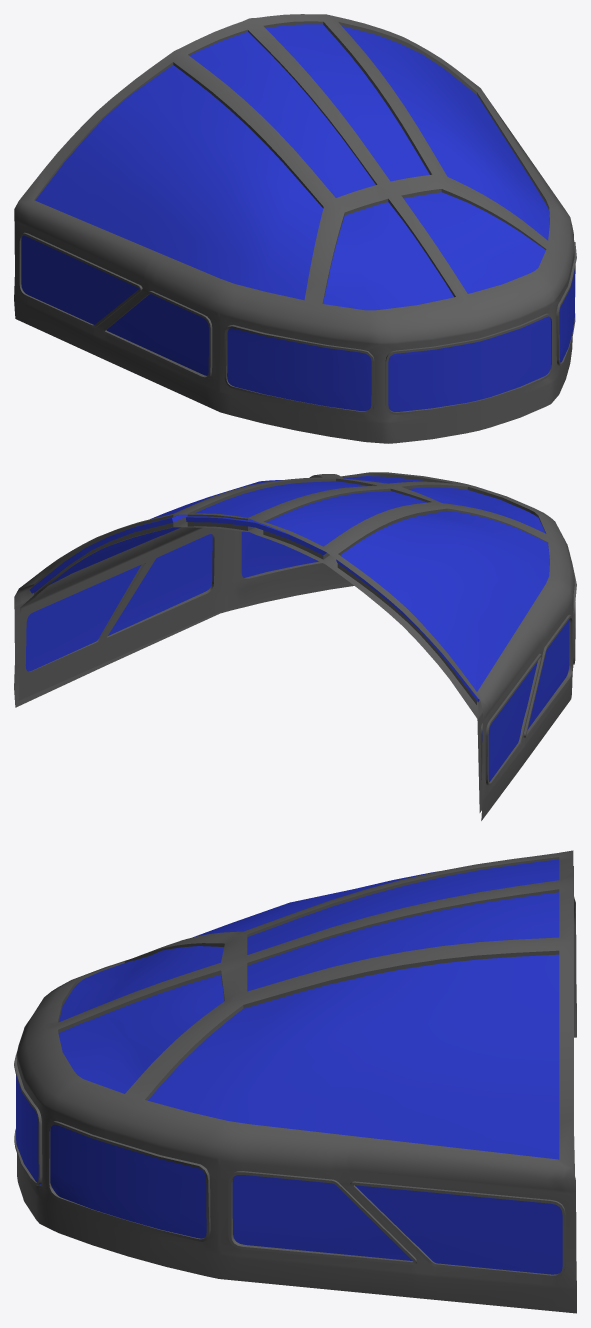
Rendered from CockpitNew.fbx.
3 views of the same model, one above another, from view 1: azimuth 30°, elevation 25°; view 2: azimuth 150°, elevation 25°; view 3: azimuth 270°, elevation 25° (orthographic). The views are drawn at different scales.
Parts seen in each view (by area): view 1: Cockpit_Top_WindowSet, Final Cockpit_Test, Cockpit_SideWindowSet; view 2: Final Cockpit_Test, Cockpit_Top_WindowSet, Cockpit_SideWindowSet; view 3: Cockpit_Top_WindowSet, Final Cockpit_Test, Cockpit_SideWindowSet.
Boxes of the visible parts, <box> form: Cockpit_Top_WindowSet: <box>35,24,549,310</box>; Final Cockpit_Test: <box>14,14,576,443</box>; Cockpit_SideWindowSet: <box>21,235,574,411</box>; Final Cockpit_Test: <box>14,472,576,820</box>; Cockpit_Top_WindowSet: <box>29,476,549,701</box>; Cockpit_SideWindowSet: <box>25,531,569,782</box>; Cockpit_Top_WindowSet: <box>58,859,559,1159</box>; Final Cockpit_Test: <box>14,850,576,1313</box>; Cockpit_SideWindowSet: <box>16,1075,562,1274</box>.
Size of the model in its own units: 719 by 358 by 615.
